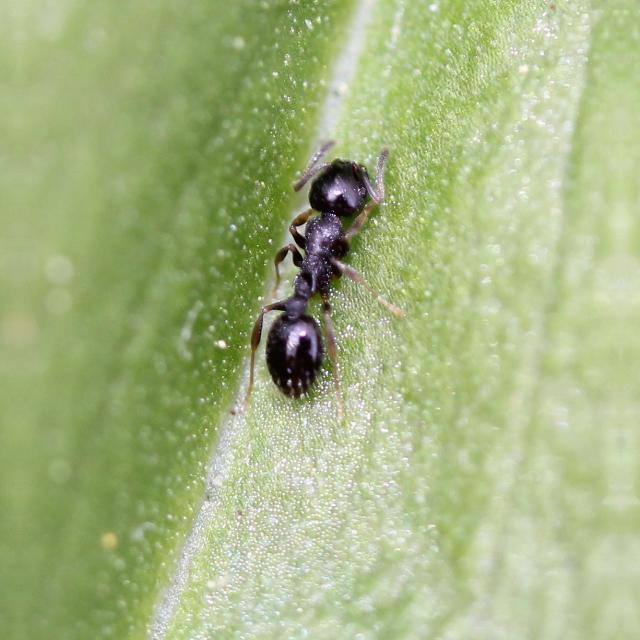Temnothorax: (231, 130, 401, 418)
